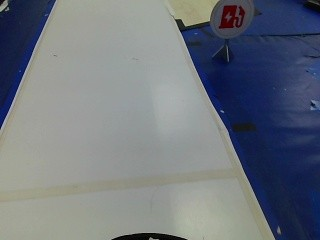battery: (204, 0, 252, 39)
